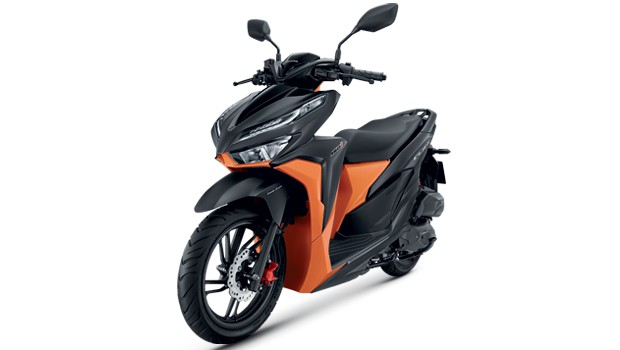motorcycle: (174, 51, 442, 345)
